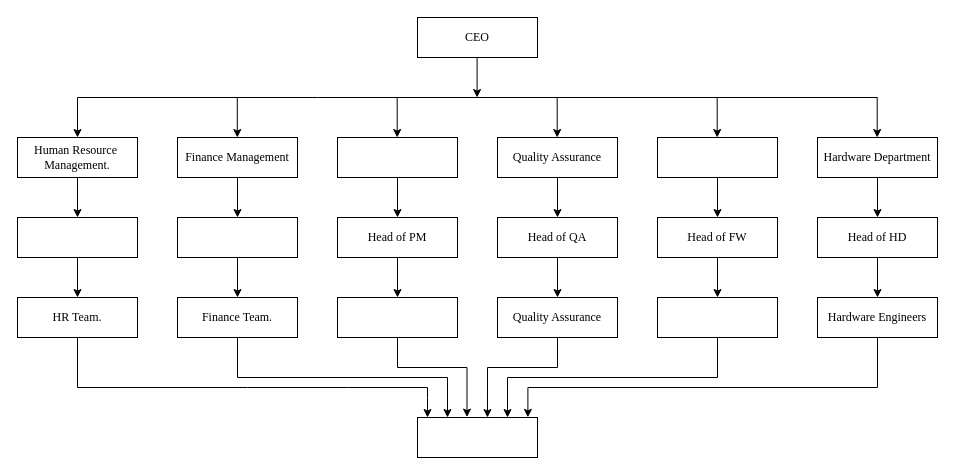
This 955x475 diagram has some shape labels left out. Here are the shapes that lost their labels. From the top down, the centre of each, then its label:
(397,157): Project Management
(717,157): Firmware Department
(77,237): HR Manager.
(237,237): Head of BA
(397,317): PM Team
(717,317): Firmware Engineers
(477,437): Interns
